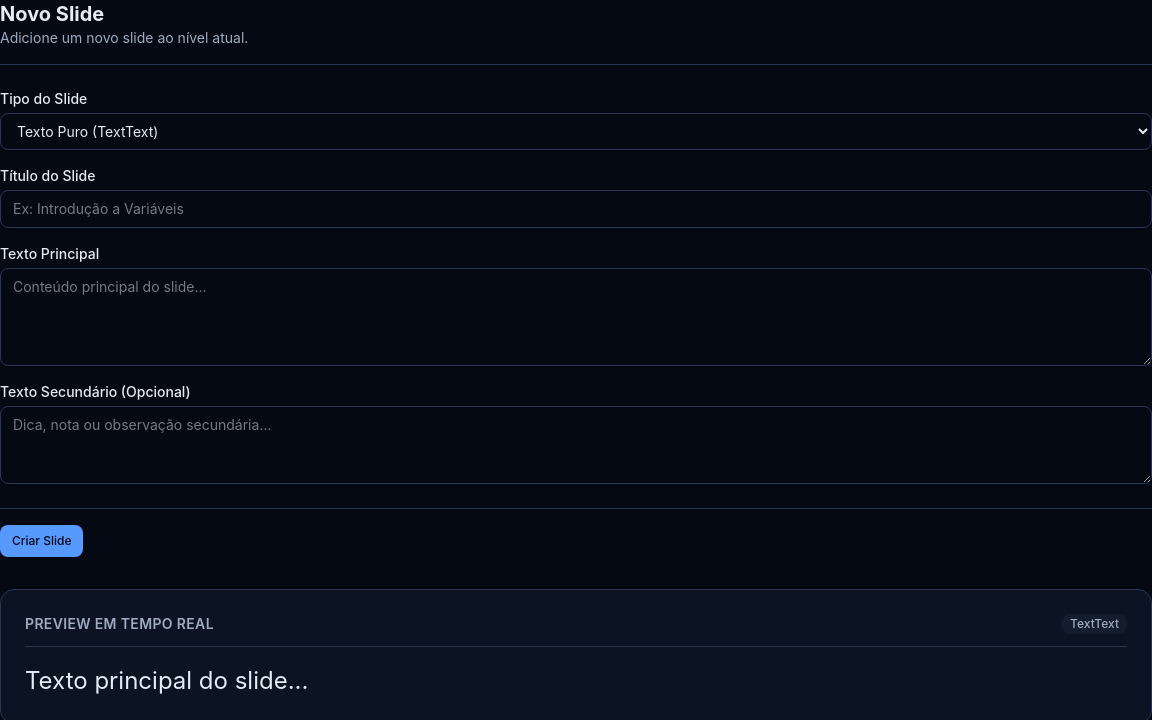
Test: SlideForm › switches to TextCode and validates code and text
Select "Texto com Código (TextCode)" in the dropdown labelled "Tipo do Slide" at [576, 132], box [0, 113, 1151, 150]
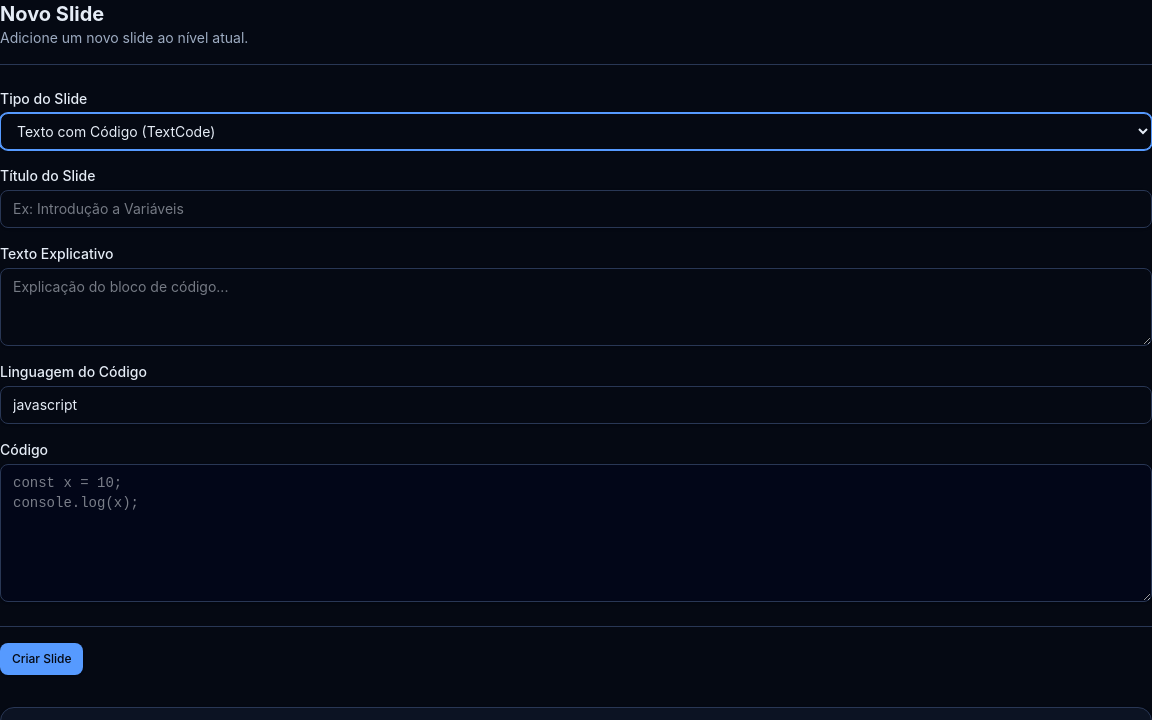
Result: the text box labelled "Código" is shown at [0, 464, 1151, 602]
Type "Slide de Código" into the field labelled "Título do Slide" at [576, 209], box [0, 190, 1151, 228]
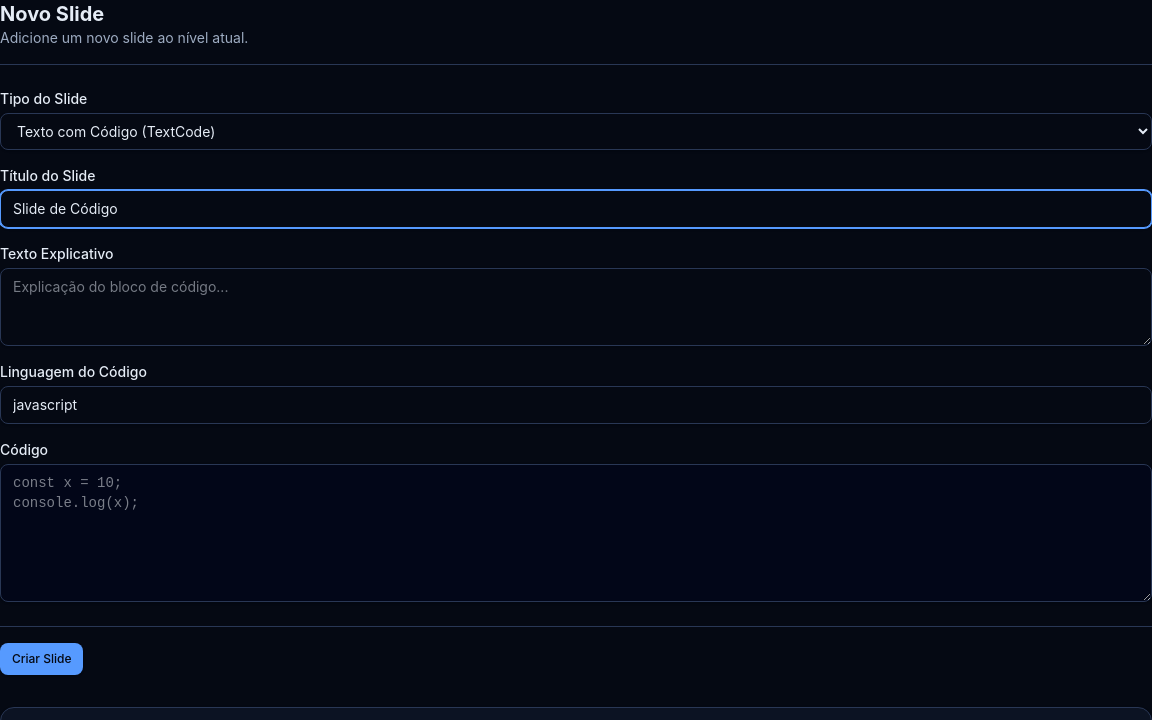
Click the button "Criar Slide" at [42, 659], box [0, 643, 84, 675]
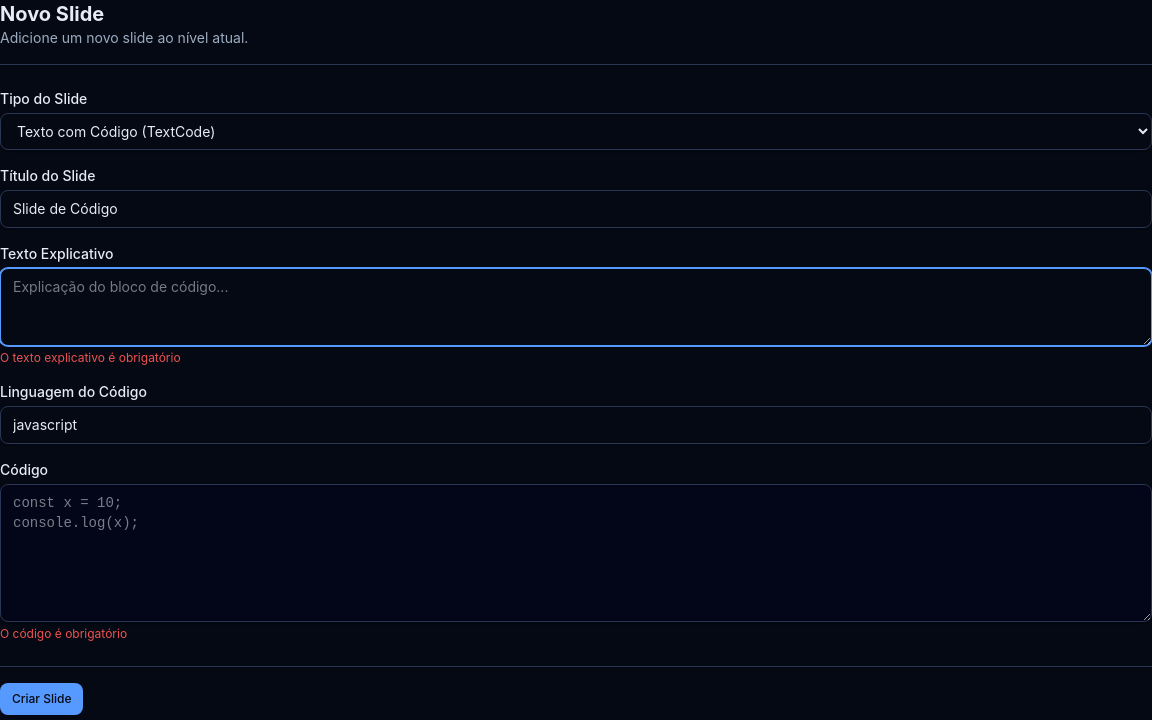
Result: the text "O texto explicativo é obrigatório" is shown at [0, 350, 181, 365]
Result: the text "O código é obrigatório" is shown at [0, 626, 127, 641]
